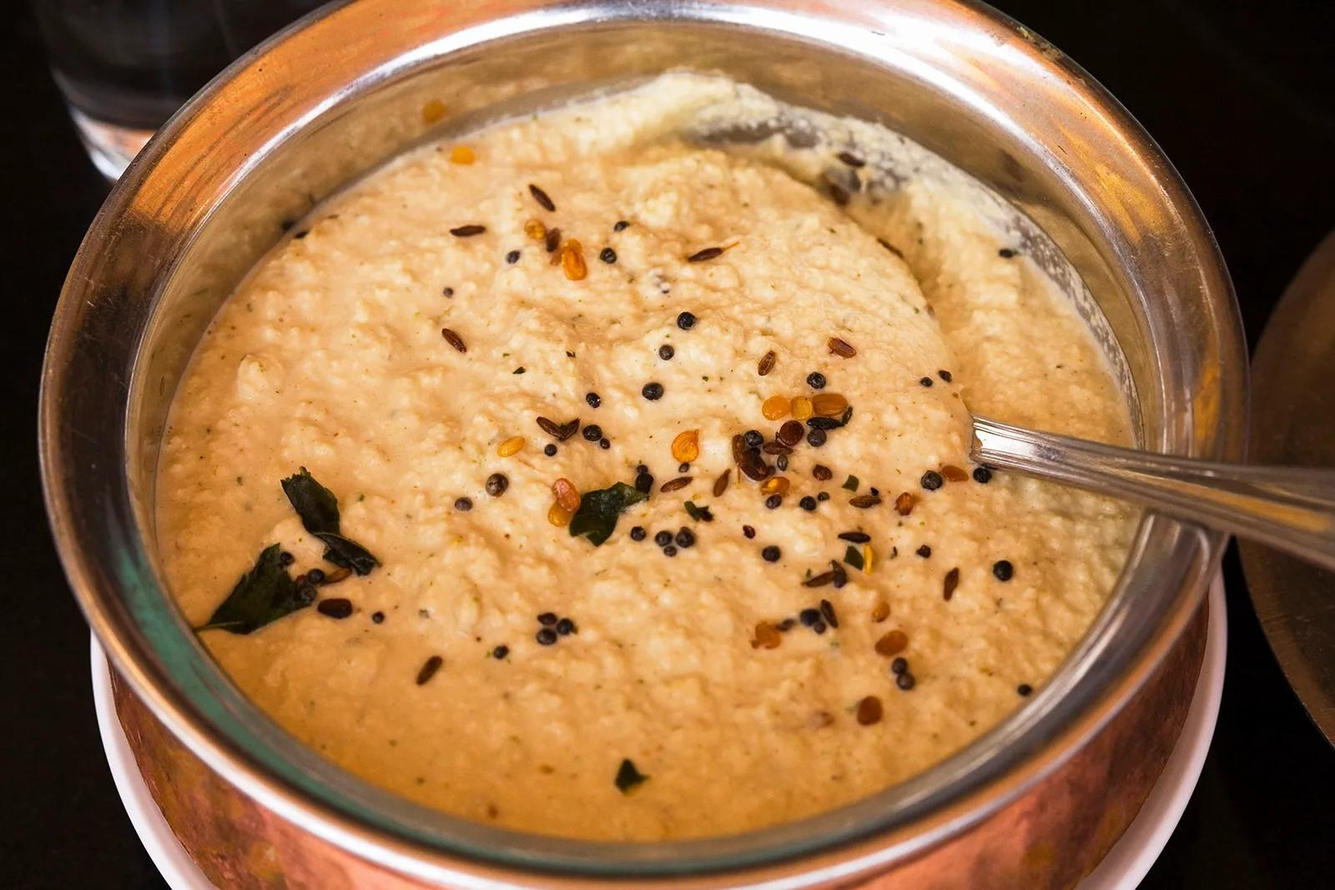CoconutChutney: (155, 80, 1136, 837)
